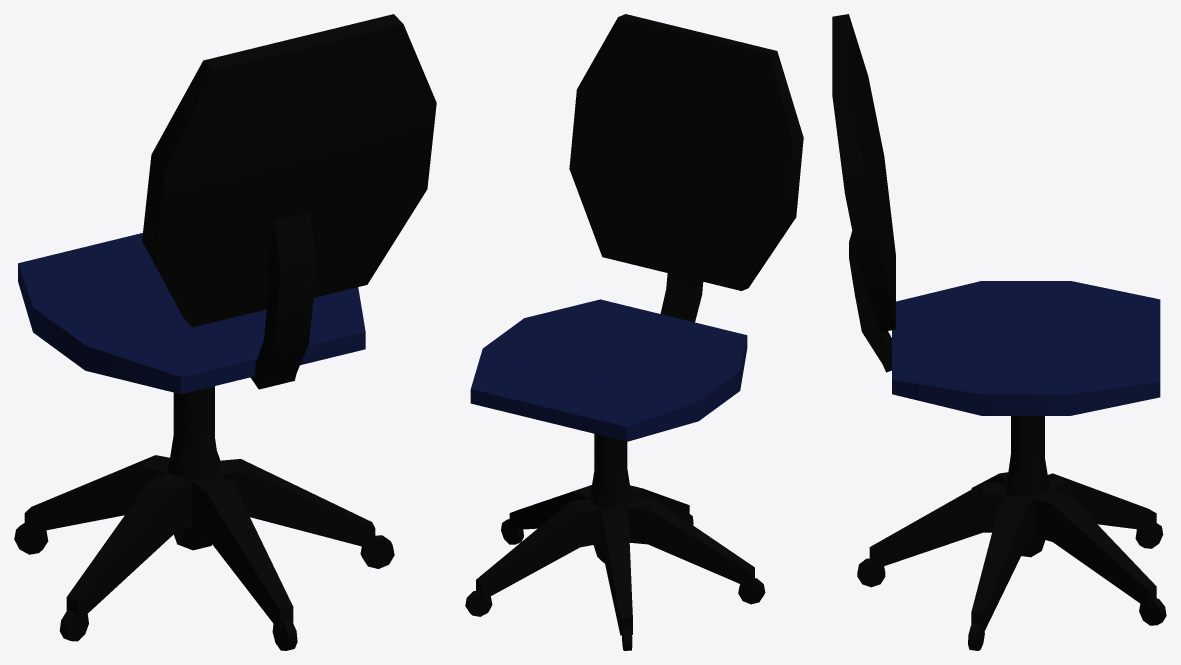
The model's file is Chair.fbx.
The picture shows the model from 3 angles, left to right: view 1: azimuth 30°, elevation 25°; view 2: azimuth 150°, elevation 25°; view 3: azimuth 270°, elevation 25°; orthographic projection. The views are drawn at different scales.
Visible parts, largest first — view 1: Box001; view 2: Box001; view 3: Box001.
Boxes of the visible parts, box(x1,y1,x2,y2) form: Box001: box(14, 14, 436, 650); Box001: box(465, 14, 803, 650); Box001: box(832, 14, 1166, 650).
Bounding box in the file's own units: 54.96 × 98.45 × 56.05.
